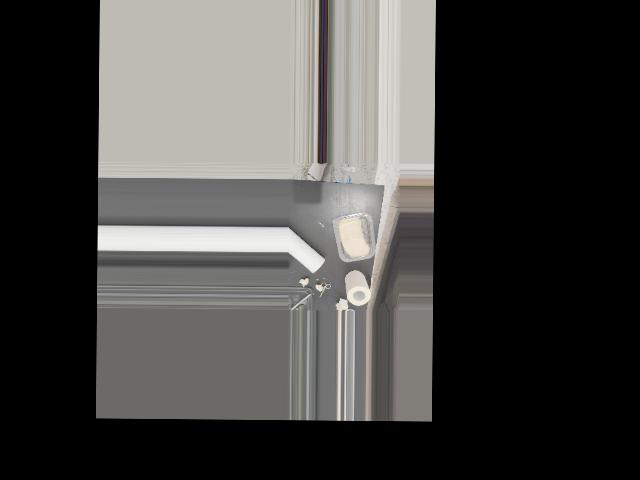cheese: (333, 211, 372, 262)
